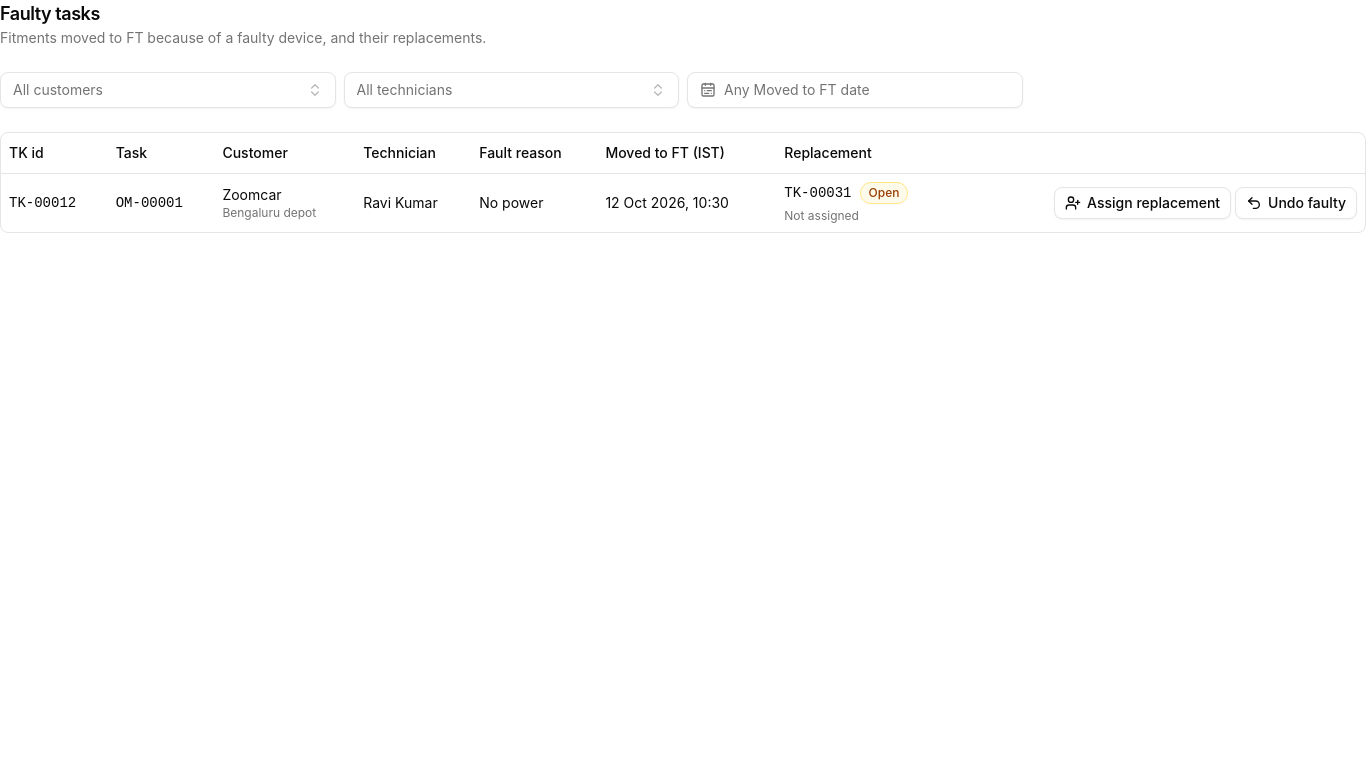
Test: Faulty view row actions (CR-11) › Undo faulty from a row posts the reason for that fitment
Click the button with aria-label "Undo faulty TK-00012". click: (1296, 202)
box: [1235,186,1357,218]
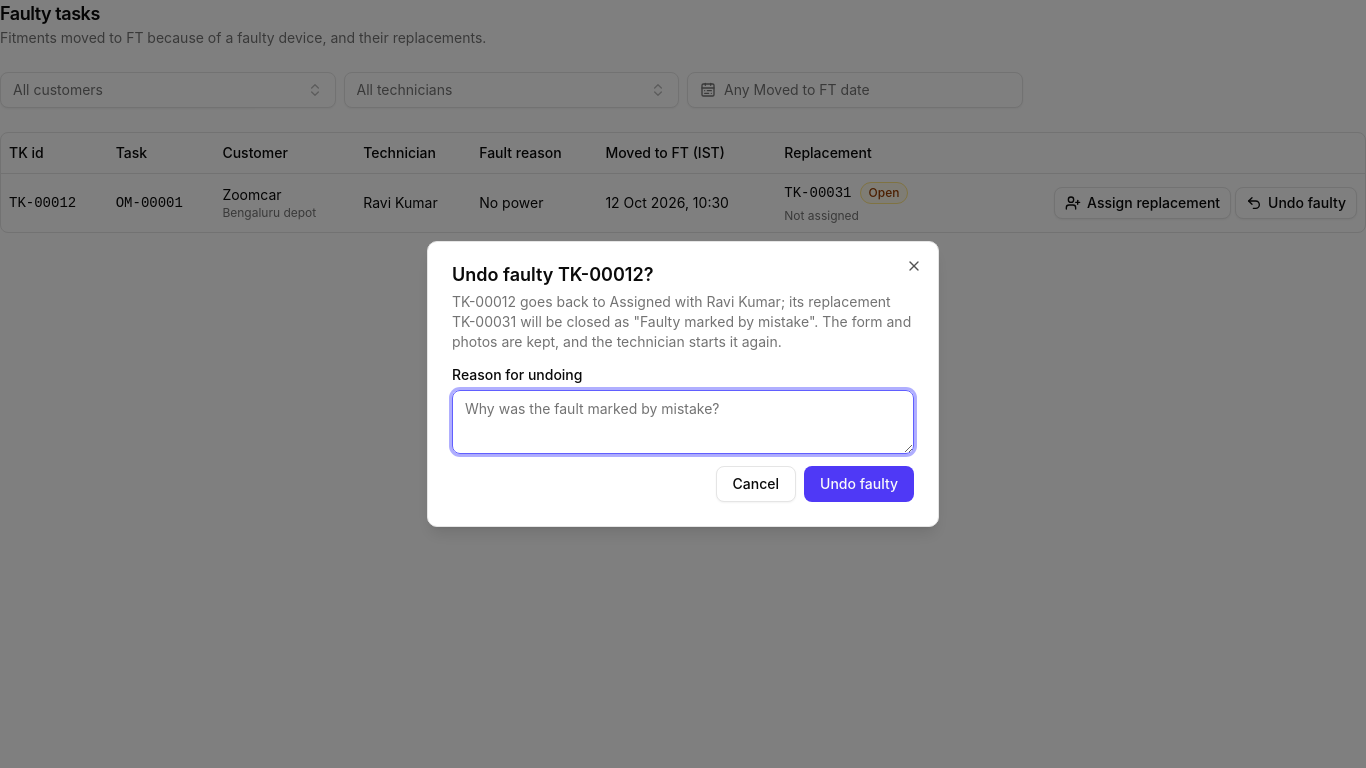
Now the dialog shows "its replacement TK-00031 will be closed as \"Faulty marked by mistake\"", box [452,293,911,350]
Type "Marked by mistake" into the text box labelled "Reason for undoing". click: (683, 422)
box: [452,390,914,454]
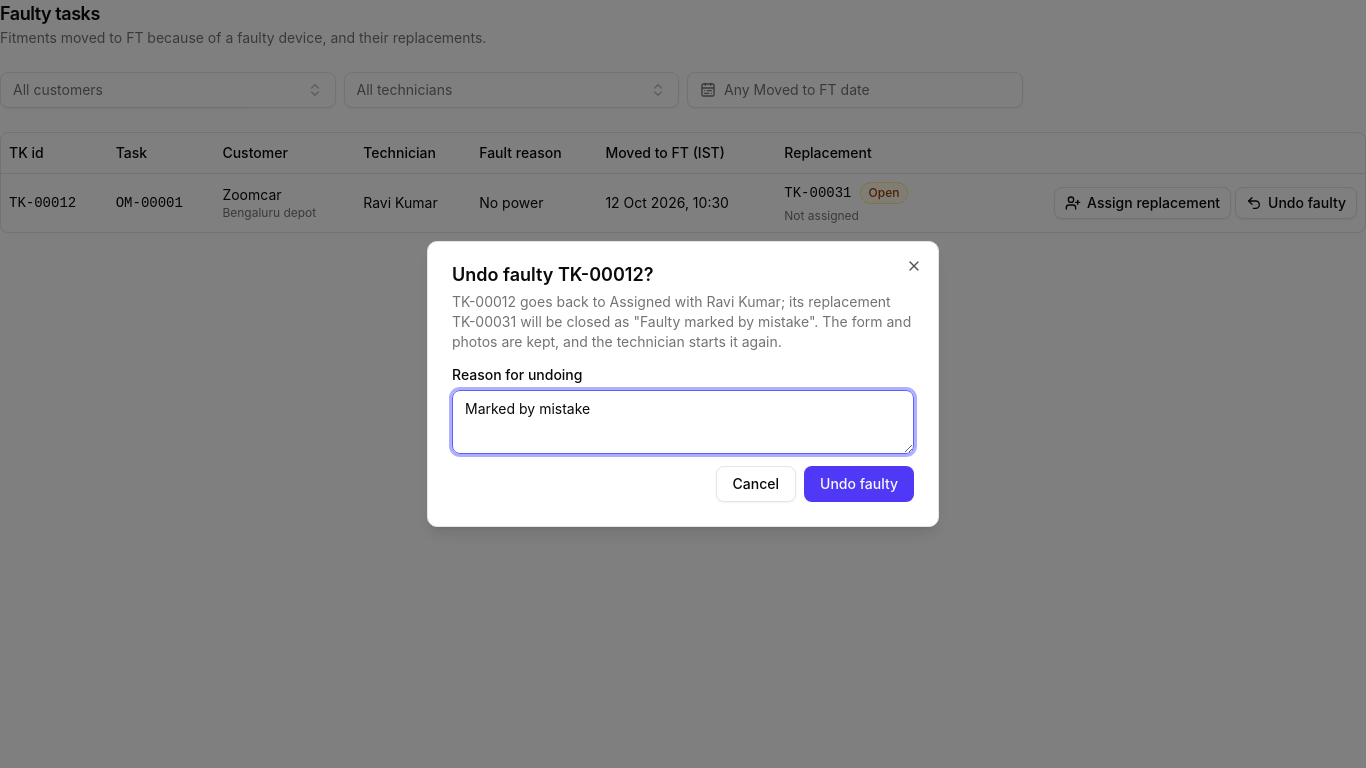
Click the button "Undo faulty". click: (859, 484)
box: [804,466,914,502]
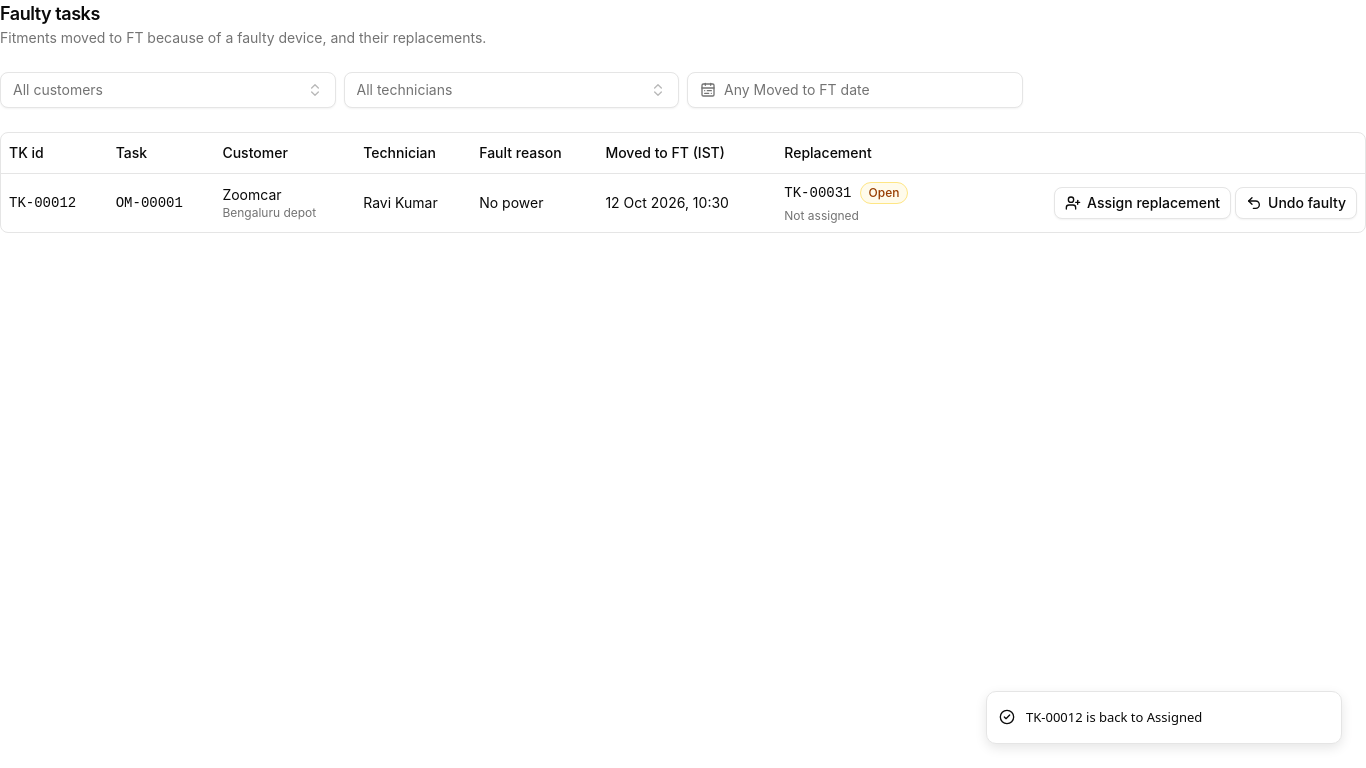
Now the dialog is gone
